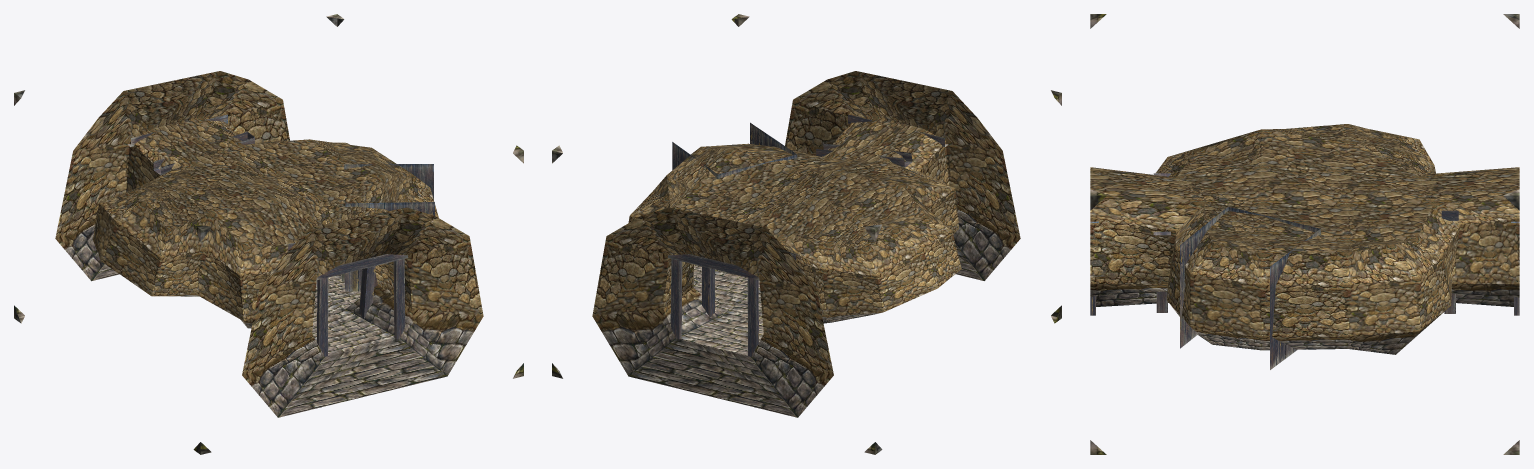
Rendered from Lbm_2a.glb.
3 renders of one model, left to right at view 1: azimuth 30°, elevation 25°; view 2: azimuth 150°, elevation 25°; view 3: azimuth 270°, elevation 25°, orthographic. The views are drawn at different scales.
Parts seen in each view (by area): view 1: Lbm_2a; view 2: Lbm_2a; view 3: Lbm_2a.
Boxes of the visible parts, x1,y1,x2,y2 form: Lbm_2a: (14, 14, 523, 454); Lbm_2a: (552, 14, 1061, 454); Lbm_2a: (1090, 14, 1519, 454).
Size of the model in its own units: 15 by 10 by 15.
Materials: 8 (8 with a texture image).
